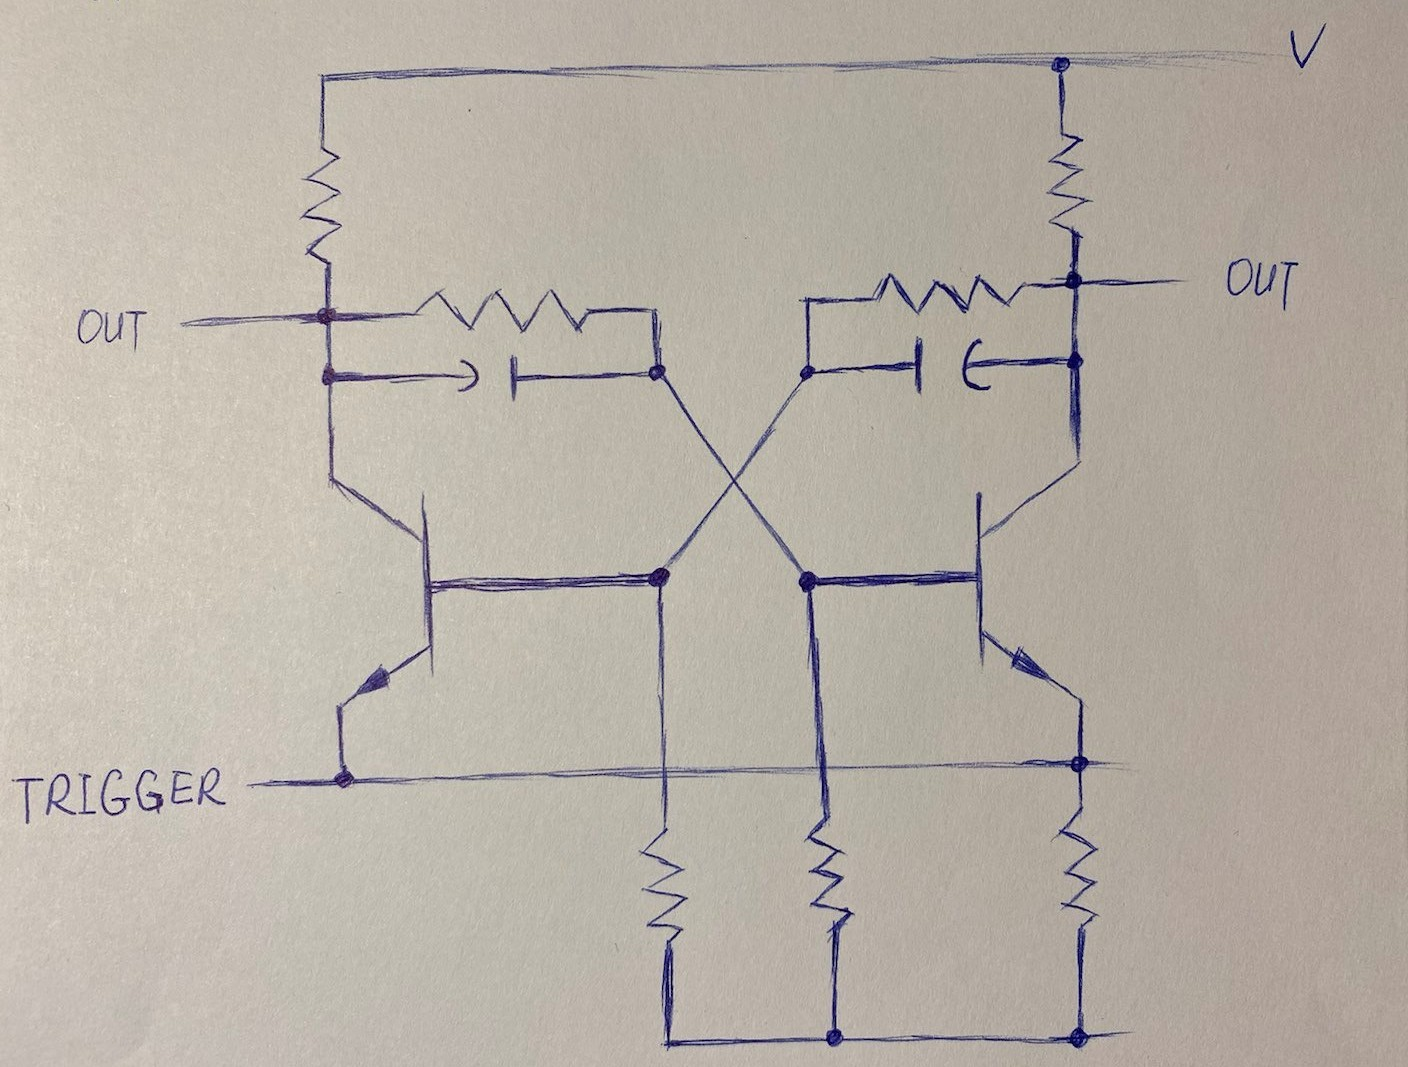capacitor.unpolarized: (902, 330, 1002, 398), (446, 347, 546, 403)
crossover: (706, 455, 771, 502), (643, 752, 700, 799), (793, 743, 842, 792)
junction: (766, 545, 841, 609), (628, 553, 694, 604), (1053, 740, 1117, 785), (807, 1014, 868, 1059), (302, 352, 359, 399), (1045, 1006, 1093, 1060), (1052, 341, 1104, 386), (1053, 260, 1101, 305), (631, 294, 679, 336), (1040, 40, 1083, 87), (321, 759, 368, 799), (641, 1022, 691, 1058), (307, 294, 349, 335), (787, 280, 830, 321), (634, 351, 675, 387), (789, 354, 827, 388), (311, 64, 343, 93)
resistor: (404, 287, 595, 337), (1043, 805, 1106, 949), (796, 811, 863, 934), (859, 268, 1031, 315), (636, 823, 695, 955), (1044, 122, 1097, 244), (302, 139, 345, 273)
terminal: (1160, 38, 1276, 77), (1142, 259, 1215, 301), (1104, 1014, 1162, 1047), (172, 308, 207, 336), (238, 770, 274, 795)
text: (6, 764, 226, 825), (1221, 250, 1310, 317), (72, 301, 150, 358), (1284, 16, 1332, 73)
transistor: (955, 458, 1117, 706), (309, 467, 452, 724)
